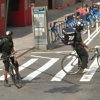Bicycle: (59, 32, 97, 80)
